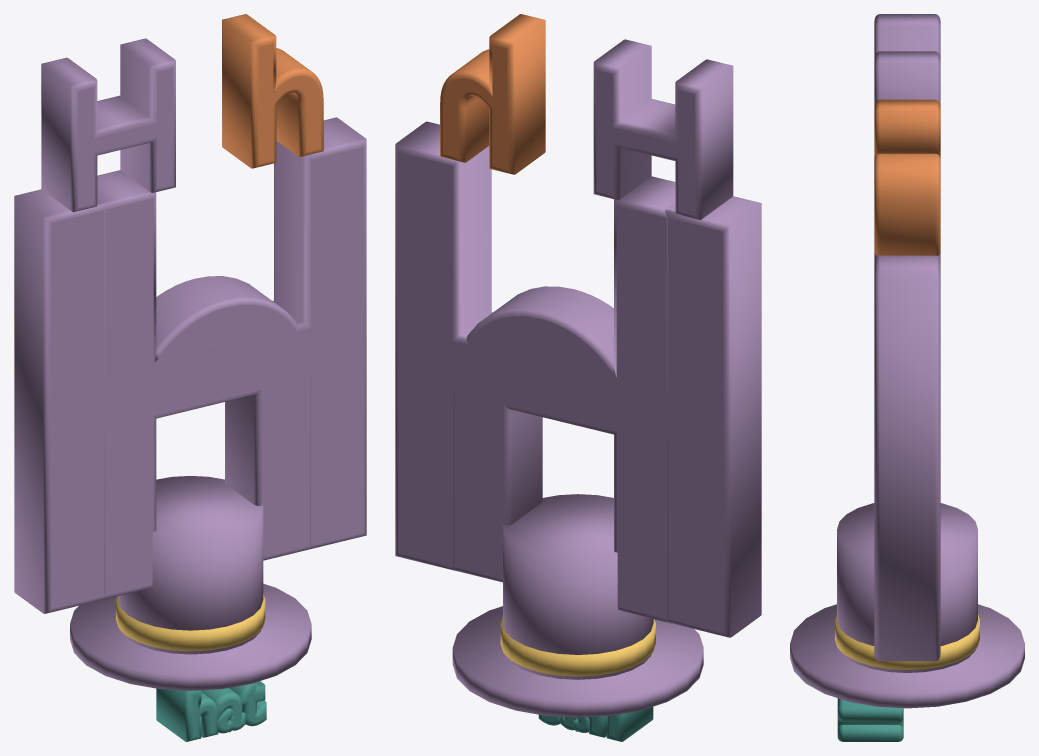
File: letter-h.glb
3 views of the same model, side by side, from view 1: azimuth 30°, elevation 25°; view 2: azimuth 150°, elevation 25°; view 3: azimuth 270°, elevation 25° (orthographic). The views are drawn at different scales.
Visible parts, largest first — view 1: letter solid, letter solid.001, hat crown, uppercase solid, hat brim, lowercase solid, example word, hat band; view 2: letter solid, letter solid.001, uppercase solid, hat crown, hat brim, lowercase solid, hat band, example word; view 3: letter solid, hat brim, lowercase solid, hat crown, uppercase solid, example word, hat band.
Part boxes in pixels (x1=…): letter solid: x1=14, y1=117, x2=366, y2=613; letter solid.001: x1=97, y1=170, x2=311, y2=599; hat crown: x1=118, y1=476, x2=263, y2=654; uppercase solid: x1=41, y1=38, x2=175, y2=212; hat brim: x1=70, y1=583, x2=311, y2=690; lowercase solid: x1=222, y1=14, x2=323, y2=168; example word: x1=156, y1=681, x2=266, y2=741; hat band: x1=116, y1=594, x2=265, y2=651; letter solid: x1=395, y1=121, x2=761, y2=637; letter solid.001: x1=452, y1=176, x2=675, y2=623; uppercase solid: x1=593, y1=39, x2=733, y2=219; hat crown: x1=503, y1=494, x2=653, y2=679; hat brim: x1=452, y1=606, x2=703, y2=717; lowercase solid: x1=440, y1=14, x2=545, y2=174; hat band: x1=500, y1=616, x2=655, y2=676; example word: x1=538, y1=706, x2=653, y2=741; letter solid: x1=874, y1=253, x2=940, y2=661; hat brim: x1=790, y1=604, x2=1024, y2=708; lowercase solid: x1=874, y1=99, x2=940, y2=255; hat crown: x1=837, y1=503, x2=977, y2=672; uppercase solid: x1=874, y1=14, x2=940, y2=105; example word: x1=837, y1=698, x2=903, y2=741; hat band: x1=835, y1=614, x2=979, y2=669.
Size of the model in its own units: 0.9837 by 1.94 by 0.638.
